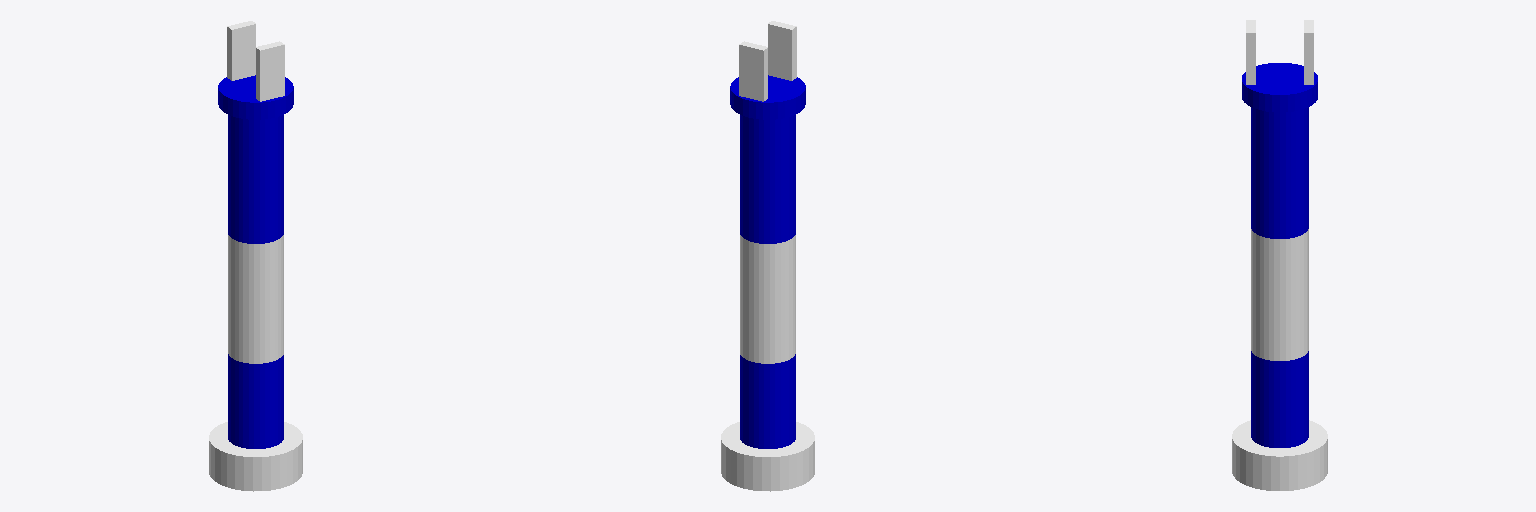
URDF robot description (marm):
<?xml version="1.0" ?>
<robot name="marm">

<!-- /    COLOR    / -->
	<material name="Black">
		<color rgba="0.0 0.0 0.0 1.0"/>
	</material>
	<material name="White">
		<color rgba="1.0 1.0 1.0 1.0"/>
	</material>
	<material name="Blue">
		<color rgba="0.0 0.0 0.9 1.0"/>
	</material>
	<material name="Red">
		<color rgba="1.0 0.0 0.0 1.0"/>
	</material>

<!-- /    BASE    / -->
	<link name="base_link">
		<visual>
			<origin rpy="0 0 0" xyz="0 0 0"/>
			<geometry>
				<cylinder length="0.04" radius="0.05"/>
			</geometry>
			<material name="White"/>
		</visual>
		<collision>
		    <origin rpy="0 0 0" xyz="0 0 0"/>
			<geometry>
        		<cylinder length="0.04" radius="0.05"/>
        	</geometry>
		</collision>
		<inertial>
		    <mass value="10"/>
		    <inertia ixx="0.0076" ixy="0.0" ixz="0.0" iyy="0.0076" iyz="0.0" izz="0.0125"/>
		</inertial>
	</link>

<!-- /   LINK1  // -->
	<link name="link1">
		<visual>
			<origin rpy="0 0 0" xyz="0 0 0.07"/>
			<geometry>
				<cylinder length="0.1" radius="0.03"/>
			</geometry>
			<material name="Blue"/>
		</visual>
		<collision>
		    <origin rpy="0 0 0" xyz="0 0 0.07"/>
		    <geometry>
            	<cylinder length="0.1" radius="0.03"/>
            </geometry>
		</collision>
		<inertial>
		    <mass value="10"/>
		    <inertia ixx="0.0106" ixy="0.0" ixz="0.0" iyy="0.0106" iyz="0.0" izz="0.0045"/>
		</inertial>
	</link>

	<joint name="joint1" type="revolute">
		<parent link="base_link"/>
		<child link="link1"/>
		<origin rpy="0 0 0" xyz="0 0 0"/>
		<axis xyz="0 0 1"/>
		<limit effort="300" lower="-3.14159" upper="3.14159" velocity="0"/>
	</joint>


<!-- ///   LINK2  // -->
	<link name="link2">
		<visual>
			<origin rpy="0 0 0" xyz="0 0 0.07"/>
			<geometry>
				<cylinder length="0.14" radius="0.03"/>
			</geometry>
			<material name="White"/>
		</visual>
		<collision>
		    <origin rpy="0 0 0" xyz="0 0 0.07"/>
		    <geometry>
        		<cylinder length="0.14" radius="0.03"/>
        	</geometry>
		</collision>
		<inertial>
		    <mass value="10"/>
            <inertia ixx="0.0186" ixy="0.0" ixz="0.0" iyy="0.0186" iyz="0.0" izz="0.0045"/>
		</inertial>
	</link>

	<joint name="joint2" type="revolute">
		<parent link="link1"/>
		<child link="link2"/>
		<origin rpy="0 0 0" xyz="0 0 0.12"/>
		<axis xyz="1 0 0"/>
		<limit effort="300" lower="-3.14159" upper="3.14159" velocity="0"/>
	</joint>

<!-- /   LINK3  / -->
	<link name="link3">
		<visual>
			<origin rpy="0 0 0" xyz="0 0 0.075"/>
			<geometry>
				<cylinder length="0.15" radius="0.03"/>
			</geometry>
			<material name="Blue"/>
		</visual>
		<collision>
		    <origin rpy="0 0 0" xyz="0 0 0.075"/>
		    <geometry>
        		<cylinder length="0.15" radius="0.03"/>
        	</geometry>
		</collision>
		<inertial>
		    <mass value="10"/>
            <inertia ixx="0.021" ixy="0.0" ixz="0.0" iyy="0.021" iyz="0.0" izz="0.0045"/>
		</inertial>
	</link>

	<joint name="joint3" type="revolute">
		<parent link="link2"/>
		<child link="link3"/>
		<origin rpy="0 0 0" xyz="0 0 0.14"/>
		<axis xyz="-1 0 0"/>
		<limit effort="300" lower="-3.14159" upper="3.14159" velocity="0"/>
	</joint>



<!--    LINK6  / -->
	<link name="link6">
		<visual>
			<origin rpy="0 0 0" xyz="0 0 0.01"/>
			<geometry>
				<cylinder length="0.02" radius="0.04"/>
			</geometry>
			<material name="Blue"/>
		</visual>
		<collision>
			<origin rpy="0 0 0" xyz="0 0 0.01"/>
		    <geometry>
        		<cylinder length="0.02" radius="0.04"/>
        	</geometry>
		</collision>
		<inertial>
            <mass value="10"/>
            <inertia ixx="0.0043" ixy="0.0" ixz="0.0" iyy="0.0043" iyz="0.0" izz="0.0032"/>
        </inertial>
	</link>

	<joint name="joint6" type="revolute">
		<parent link="link3"/>
		<child link="link6"/>
		<origin rpy="0 0 0" xyz="0 0 0.15"/>
		<axis xyz="0 0 1"/>
		<limit effort="300" lower="-6.28318" upper="6.28318" velocity="0"/>
	</joint>

<!-- //   GRIPPER   // -->
	<link name="gripper_finger_link1">
		<visual>
			<origin rpy="0 0 0" xyz="0 0 0.03"/>
			<geometry>
				<box size="0.03 0.01 0.06"/>
			</geometry>
			<material name="White"/>
		</visual>
		<collision>
		    <origin rpy="0 0 0" xyz="0 0 0.03"/>
			<geometry>
        		<box size="0.03 0.01 0.06"/>
        	</geometry>
		</collision>
	    <inertial>
            <mass value="10"/>
            <inertia ixx="0.0031" ixy="0.0" ixz="0.0" iyy="0.00375" iyz="0.0" izz="0.00083"/>
        </inertial>
	</link>

	<link name="gripper_finger_link2">
		<visual>
			<origin rpy="0 0 0" xyz="0 0 0.03"/>
			<geometry>
				<box size="0.03 0.01 0.06"/>
			</geometry>
			<material name="White"/>
		</visual>
		<collision>
		    <origin rpy="0 0 0" xyz="0 0 0.03"/>
			<geometry>
                <box size="0.03 0.01 0.06"/>
            </geometry>
		</collision>
	    <inertial>
            <mass value="10"/>
            <inertia ixx="0.0031" ixy="0.0" ixz="0.0" iyy="0.00375" iyz="0.0" izz="0.00083"/>
        </inertial>
	</link>

	<joint name="finger_joint1" type="prismatic">
		<parent link="link6"/>
		<child link="gripper_finger_link1"/>
		<origin rpy="0 0 0" xyz="0 -0.03 0.02"/>
		<axis xyz="0 1 0"/>
		<limit effort="100" lower="0" upper="0.06" velocity="0"/>
	</joint>

	<joint name="finger_joint2" type="fixed">
		<parent link="link6"/>
		<child link="gripper_finger_link2"/>
		<origin rpy="0 0 0" xyz="0 0.03 0.02"/>
	</joint>

<!-- //   GRASPING FRAME   // -->
	<link name="grasping_frame"/>

	<joint name="grasping_frame_joint" type="fixed">
		<parent link="link6"/>
		<child link="grasping_frame"/>
		<origin rpy="0 0 0" xyz="0.06 0 0"/>
	</joint>



</robot>

--- Render facts (derived) ---
The picture shows the robot from 3 angles, left to right: view 1: azimuth 30°, elevation 25°; view 2: azimuth 150°, elevation 25°; view 3: azimuth 270°, elevation 25°; orthographic projection.
Model marm with 8 links and 7 joints (4 revolute, 1 prismatic, 2 fixed), rooted at base_link, posed all joints at 0.
Links seen in each view (by area): view 1: link3, link2, link1, base_link, link6, gripper_finger_link2, gripper_finger_link1; view 2: link3, link2, link1, base_link, link6, gripper_finger_link1, gripper_finger_link2; view 3: link3, link2, link1, base_link, link6, gripper_finger_link1, gripper_finger_link2.
Boxes of the visible links, x1,y1,x2,y2 form: link3: [228, 115, 283, 243]; link2: [228, 235, 283, 363]; link1: [228, 354, 283, 448]; base_link: [209, 422, 302, 491]; link6: [218, 75, 293, 119]; gripper_finger_link2: [227, 21, 255, 80]; gripper_finger_link1: [256, 41, 284, 101]; link3: [740, 115, 795, 243]; link2: [740, 235, 795, 363]; link1: [740, 354, 795, 448]; base_link: [721, 422, 814, 491]; link6: [730, 75, 805, 119]; gripper_finger_link1: [768, 21, 796, 80]; gripper_finger_link2: [739, 41, 767, 101]; link3: [1251, 107, 1308, 238]; link2: [1251, 229, 1308, 360]; link1: [1251, 351, 1308, 447]; base_link: [1232, 420, 1327, 490]; link6: [1242, 63, 1317, 112]; gripper_finger_link1: [1246, 20, 1255, 84]; gripper_finger_link2: [1304, 20, 1313, 84].
Size in the robot's own frame: 0.1 by 0.1 by 0.51 metres.
Geometry: primitives only (box / cylinder / sphere), no mesh files.
